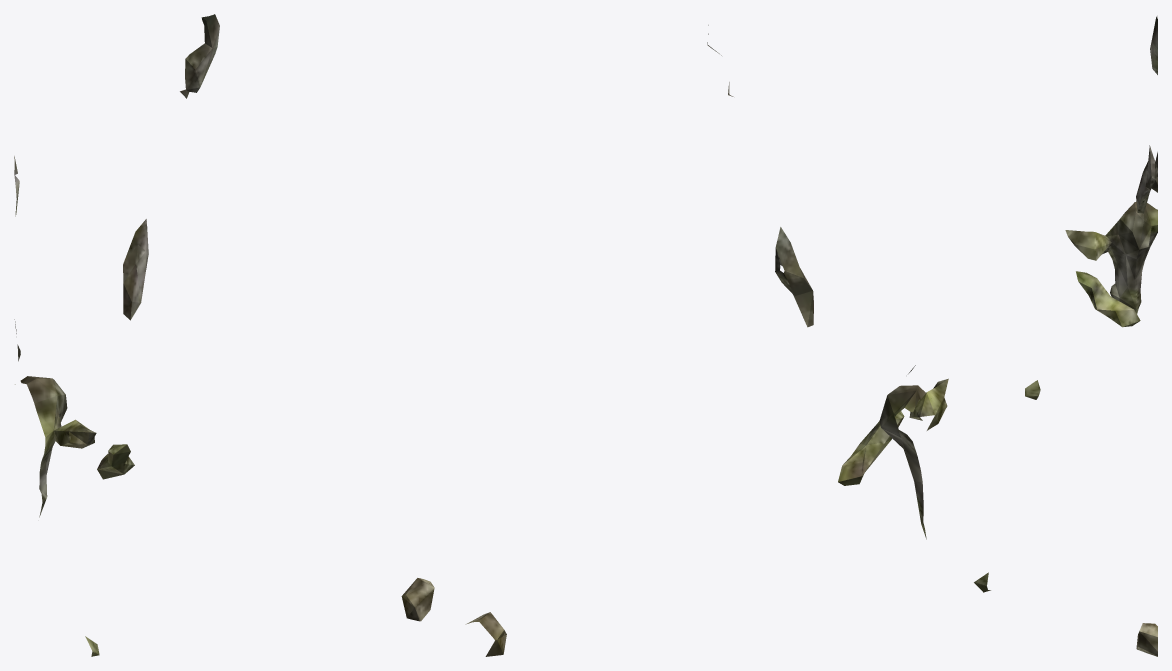
3 renders of one model, left to right at view 1: azimuth 30°, elevation 25°; view 2: azimuth 150°, elevation 25°; view 3: azimuth 270°, elevation 25°, orthographic. The views are drawn at different scales.
Size of the model in its own units: 2 by 2.95 by 0.6469.
1 material, 1 textured.
